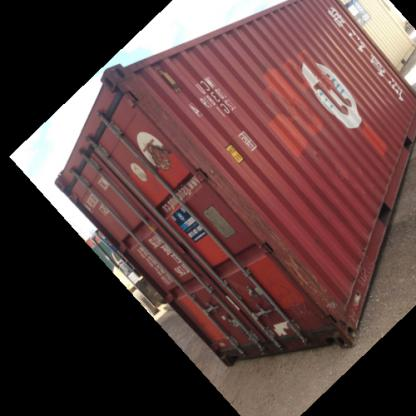Damage: (132, 78, 218, 171), (282, 245, 355, 336), (214, 174, 290, 250), (256, 302, 296, 344)
